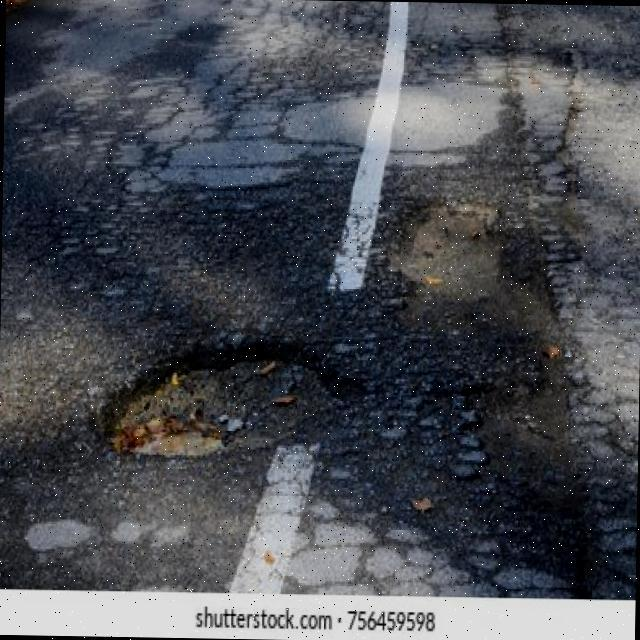Pothole: (383, 195, 594, 518), (108, 347, 332, 455)
